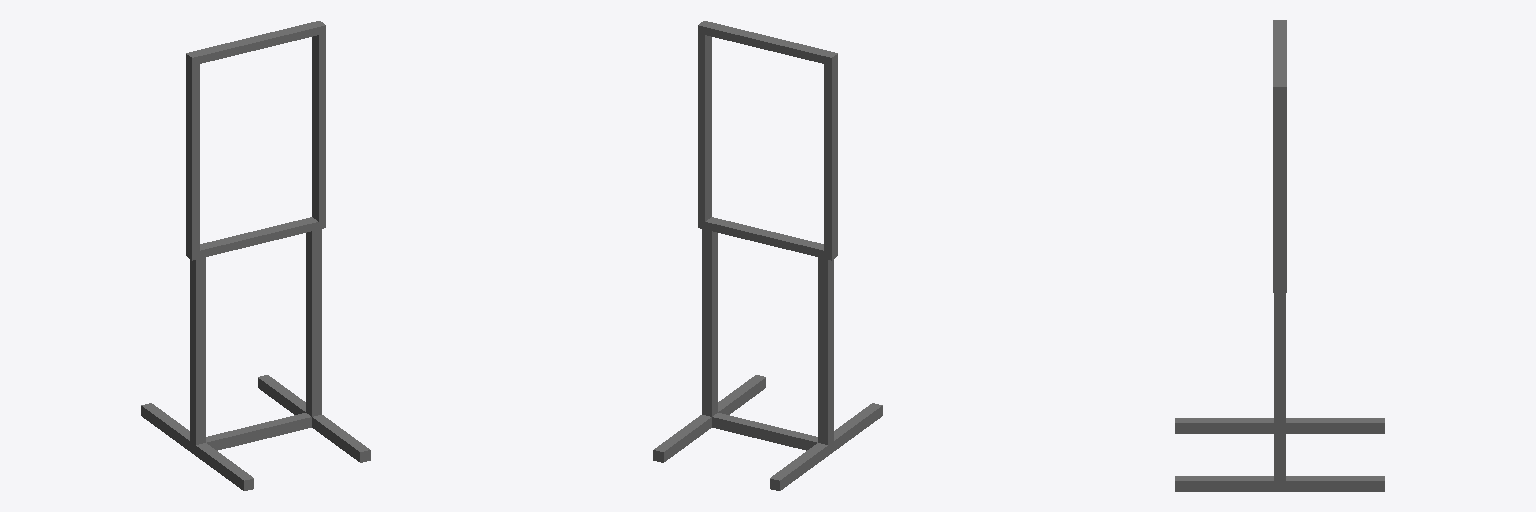
URDF robot description (Gate):
<?xml version="1.0" encoding="utf-8"?>
<!-- This URDF was automatically created by SolidWorks to URDF Exporter! Originally created by [author] ([email redacted]) 
     Commit Version: 1.5.1-0-g916b5db  Build Version: 1.5.7152.31018
     For more information, please see http://wiki.ros.org/sw_urdf_exporter -->
<robot
  name="Gate">
  <link
    name="base_link">
    <inertial>
      <origin
        xyz="3.04504654713027 -6.56221734584649 0.545724070797634"
        rpy="0 0 0" />
      <mass
        value="8.81017681500004" />
      <inertia
        ixx="2.51535603476188"
        ixy="3.6286891460374E-17"
        ixz="-6.49421501013503E-16"
        iyy="2.83172926520064"
        iyz="-6.03431567425353E-16"
        izz="0.513769208068451" />
    </inertial>
    <visual>
      <origin
        xyz="0 0 0"
        rpy="0 0 0" />
      <geometry>
        <mesh
          filename="package://Gate/meshes/base_link.STL" />
      </geometry>
      <material
        name="">
        <color
          rgba="0.501960784313725 0.501960784313725 0.501960784313725 1" />
      </material>
    </visual>
    <collision>
      <origin
        xyz="0 0 0"
        rpy="0 0 0" />
      <geometry>
        <mesh
          filename="package://Gate/meshes/base_link.STL" />
      </geometry>
    </collision>
  </link>
</robot>

--- Render facts (derived) ---
3 views of the same robot in one strip: view 1: azimuth 30°, elevation 25°; view 2: azimuth 150°, elevation 25°; view 3: azimuth 270°, elevation 25° (orthographic).
Model Gate with 1 links and 0 joints (none), rooted at base_link, posed all joints at 0.
Links seen in each view (by area): view 1: base_link; view 2: base_link; view 3: base_link.
Link boxes in pixels (<box>): base_link: <box>141,21,370,490</box>; base_link: <box>653,21,882,490</box>; base_link: <box>1175,20,1384,491</box>.
Size in the robot's own frame: 0.53 by 0.705 by 1.51 metres.
1 mesh visuals loaded from 1 distinct referenced files (1 binary STL).